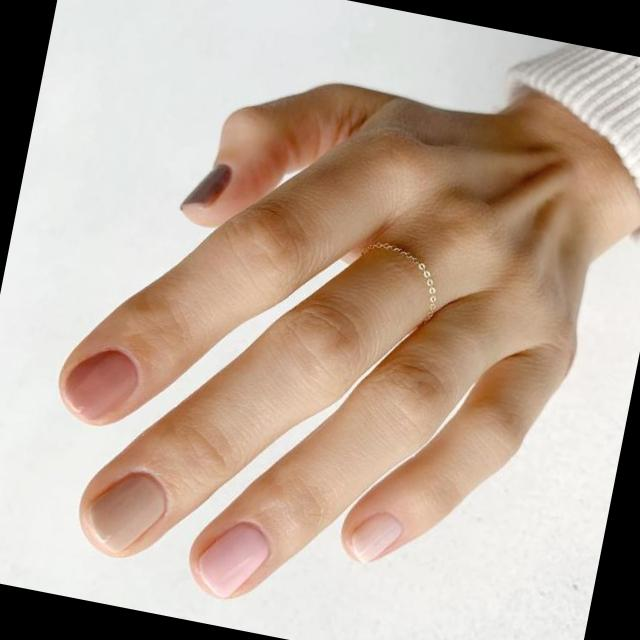Nail: (82, 471, 167, 553), (195, 522, 268, 595), (63, 349, 138, 420), (349, 513, 402, 559), (182, 163, 232, 208)
